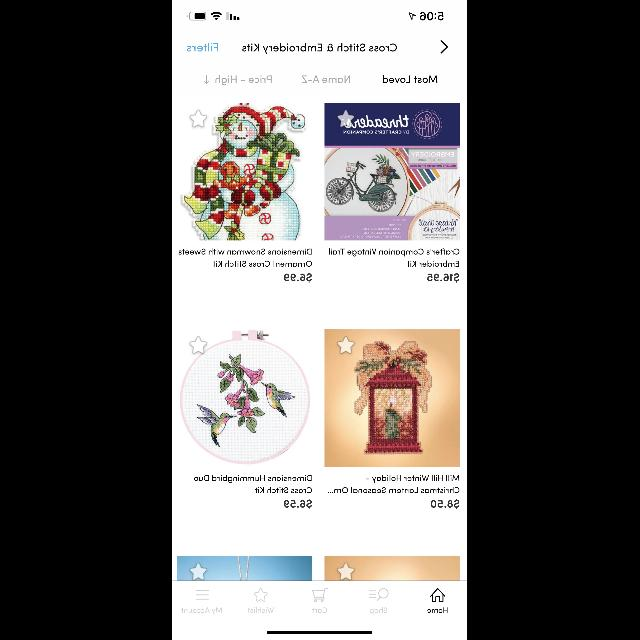icon: (190, 562, 208, 580), (338, 562, 356, 580), (190, 336, 208, 354), (338, 336, 356, 354), (190, 110, 208, 128), (338, 110, 354, 126), (369, 588, 389, 600), (313, 588, 329, 602), (432, 588, 446, 602), (255, 588, 268, 602), (197, 590, 210, 600), (442, 40, 448, 54), (205, 76, 209, 84)
image: (326, 329, 460, 466), (326, 104, 460, 240), (181, 330, 311, 464), (181, 104, 307, 240)
text: (179, 249, 313, 267), (329, 475, 461, 493), (330, 249, 460, 267), (194, 475, 312, 493), (242, 44, 398, 54), (216, 75, 272, 85), (384, 75, 438, 83), (428, 273, 460, 283), (188, 42, 218, 52), (302, 76, 350, 82), (284, 499, 312, 509), (432, 499, 460, 509), (284, 273, 312, 283), (182, 608, 222, 614), (248, 607, 274, 613), (370, 608, 388, 614), (428, 608, 448, 612), (312, 608, 328, 612)
uppertaskbar: (188, 12, 444, 21)
